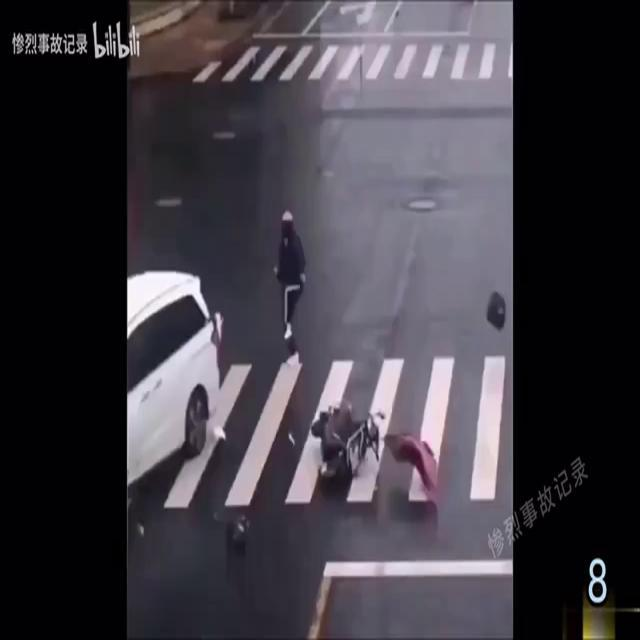multiple_accident: (117, 223, 250, 507), (287, 388, 417, 485)
